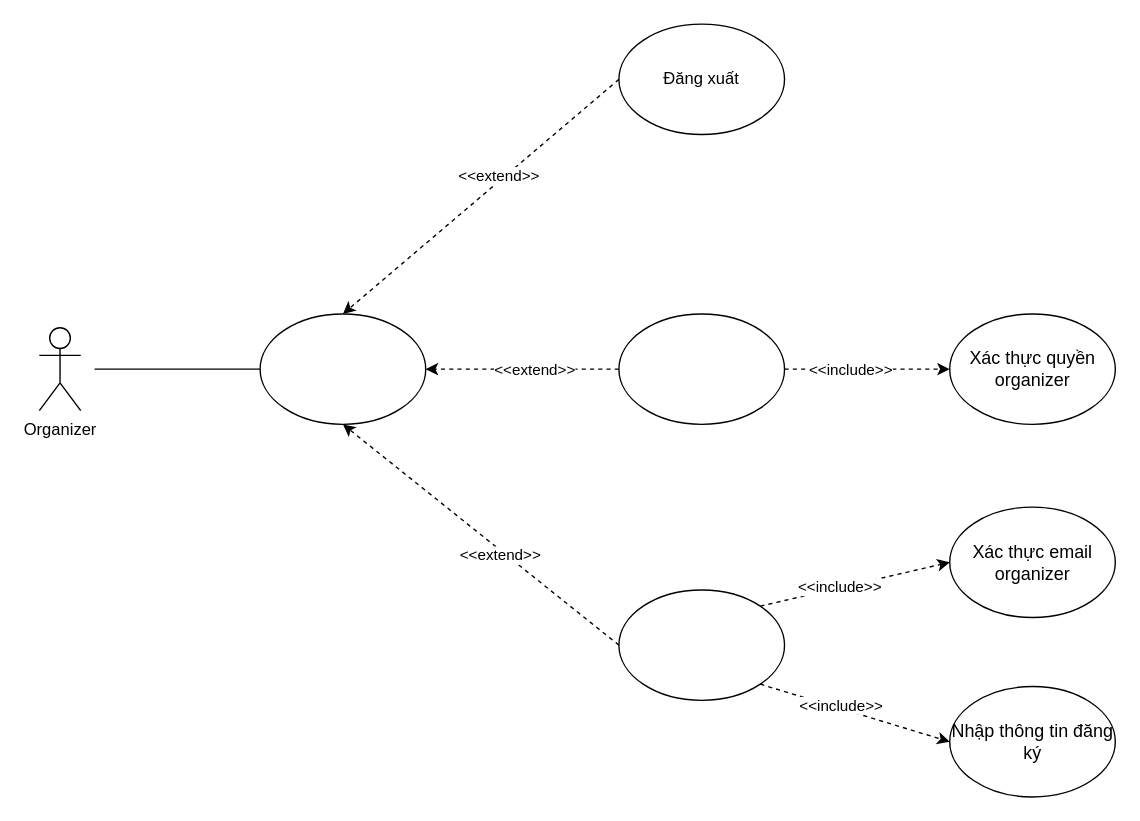
The diagram is 1140 pixels wide and 821 high, and some of its shapes have lost their labels. The centre of each missing label's shape, as x and y in pixels:
"Quản lý xác thực" goes at pixel 342 368.
"Đăng ký tài khoản organizer" goes at pixel 701 644.
"Đăng nhập hệ thống" goes at pixel 701 368.
